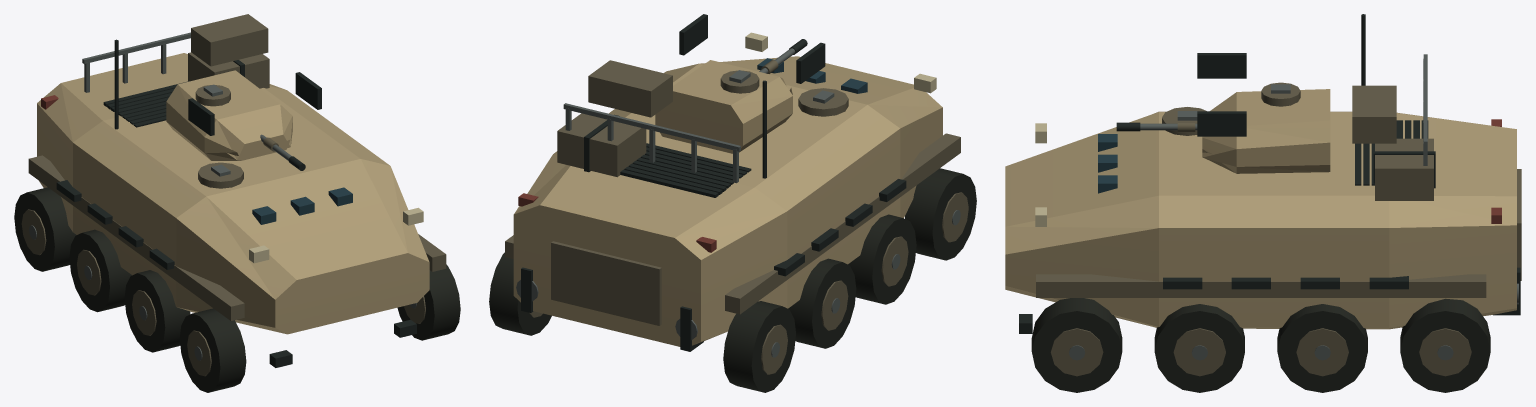
File: apc.glb
The picture shows the model from 3 angles, left to right: view 1: azimuth 30°, elevation 25°; view 2: azimuth 150°, elevation 25°; view 3: azimuth 270°, elevation 25°; orthographic projection. The views are drawn at different scales.
Parts seen in each view (by area): view 1: armor (×2), equipment (×3), glass; view 2: armor (×2), equipment (×3), glass; view 3: armor (×2), equipment (×3), glass.
Part boxes in pixels (x1=…): armor (×2): x1=37, y1=53, x2=429, y2=334; equipment (×3): x1=14, y1=14, x2=460, y2=392; glass: x1=252, y1=187, x2=352, y2=224; armor (×2): x1=513, y1=56, x2=942, y2=346; equipment (×3): x1=489, y1=14, x2=976, y2=392; glass: x1=757, y1=58, x2=867, y2=93; armor (×2): x1=1005, y1=89, x2=1516, y2=329; equipment (×3): x1=1019, y1=14, x2=1521, y2=392; glass: x1=1098, y1=134, x2=1117, y2=193.
Bounding box in the file's own units: 3.19 × 3.05 × 5.24.
